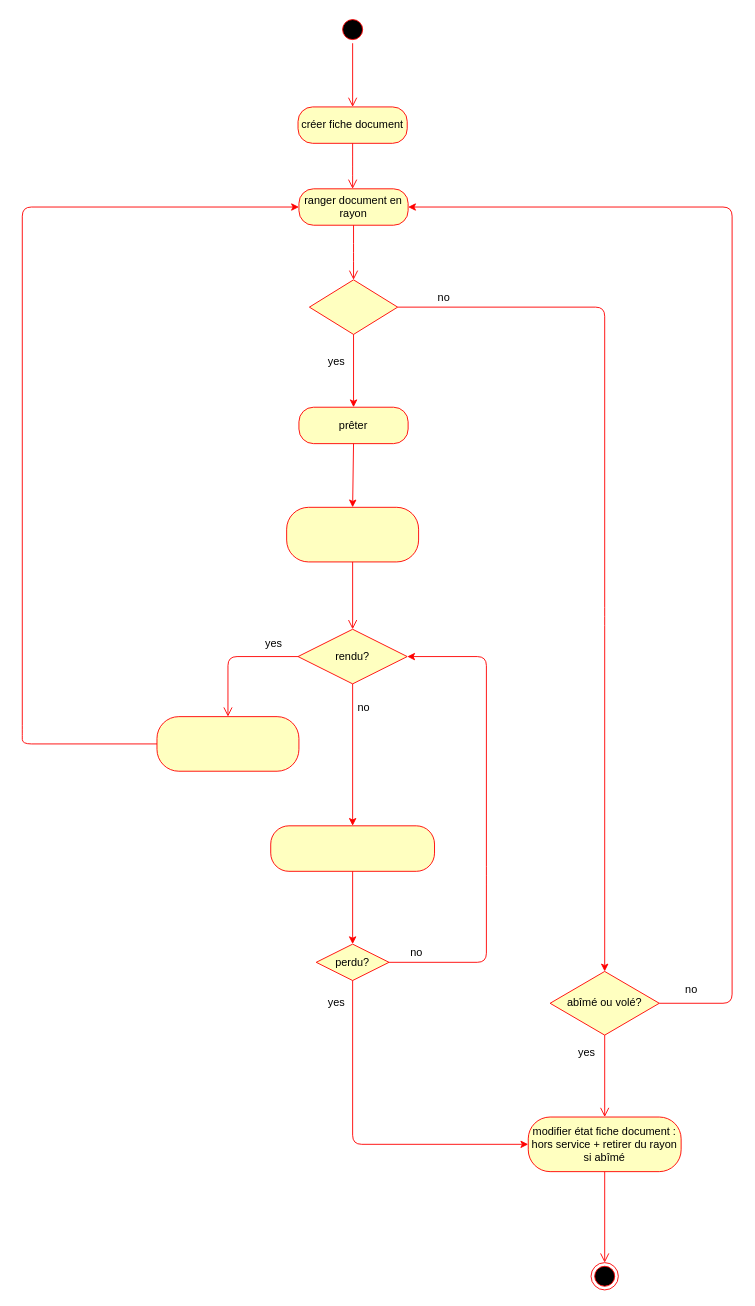
The diagram is 755 pixels wide and 1306 high, and some of its shapes have lost their labels. Here are the shapes that lost their labels. From the top down, the box of each, then its label:
(308, 279, 398, 334): empruntable
(286, 506, 419, 562): créer fiche de prêt + modifier état document : indisponible
(156, 716, 299, 771): supprimer fiche de prêt + modifier état document : disponible
(270, 825, 435, 871): prolonger durée indisponibilité + courrier relance
